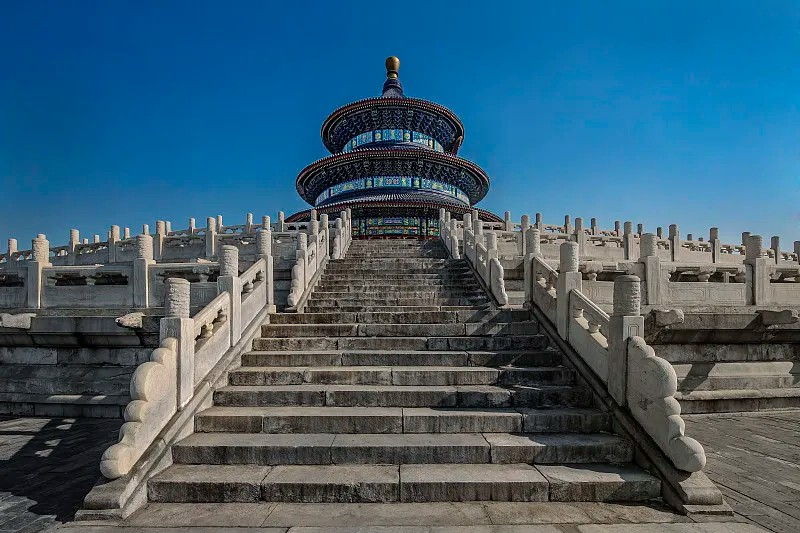Heaven: (284, 56, 503, 239)
